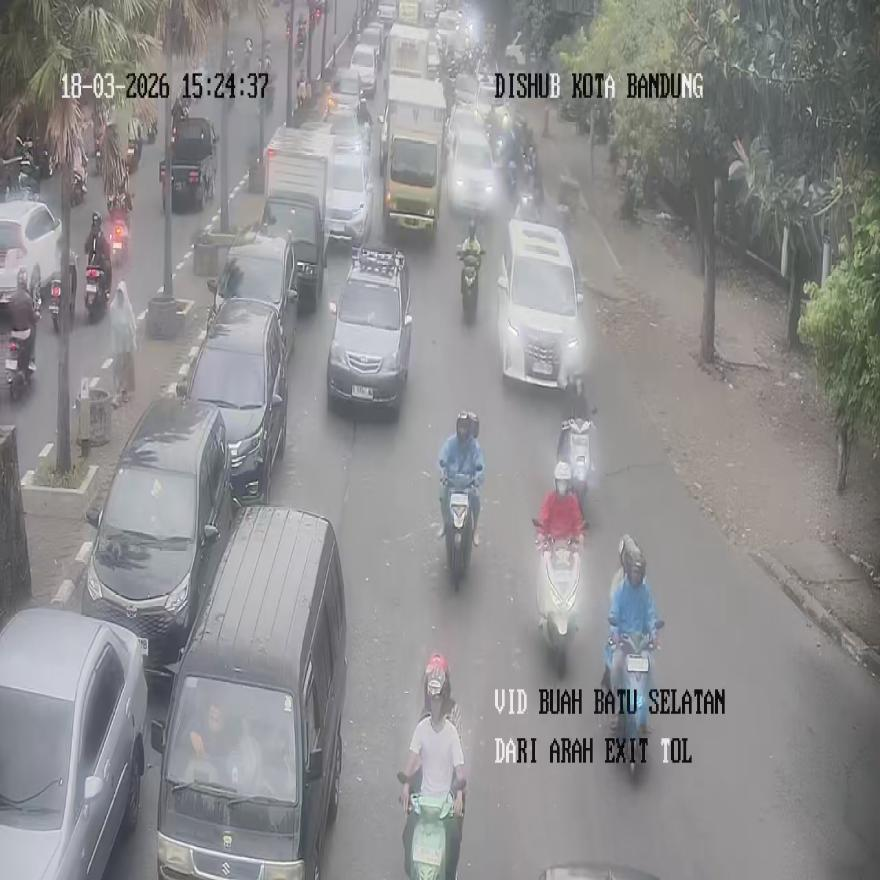Mobil: (150, 506, 346, 876), (81, 397, 233, 680), (0, 608, 147, 878), (180, 298, 288, 504), (496, 219, 585, 391), (326, 244, 412, 410), (260, 124, 334, 310), (208, 229, 298, 358), (0, 199, 61, 314), (159, 118, 216, 212)
Motor: (606, 618, 661, 774), (533, 518, 585, 675), (398, 770, 463, 879), (556, 410, 595, 520), (442, 472, 478, 589), (5, 270, 38, 380), (6, 324, 36, 401), (48, 250, 76, 332), (458, 247, 480, 324), (85, 256, 111, 321), (106, 210, 129, 268), (243, 39, 253, 73)
Truk ringan: (379, 75, 446, 240)
